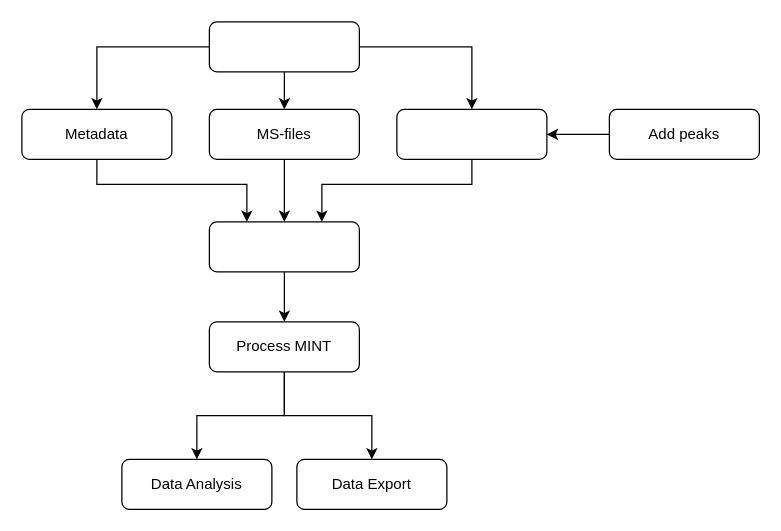
This 781x531 diagram has some shape labels left out. The centre of each missing label's shape, as x and y in pixels:
"Optimize Peaks" goes at (283,246).
"Peaklist" goes at (471,133).
"Workspace" goes at (283,46).
